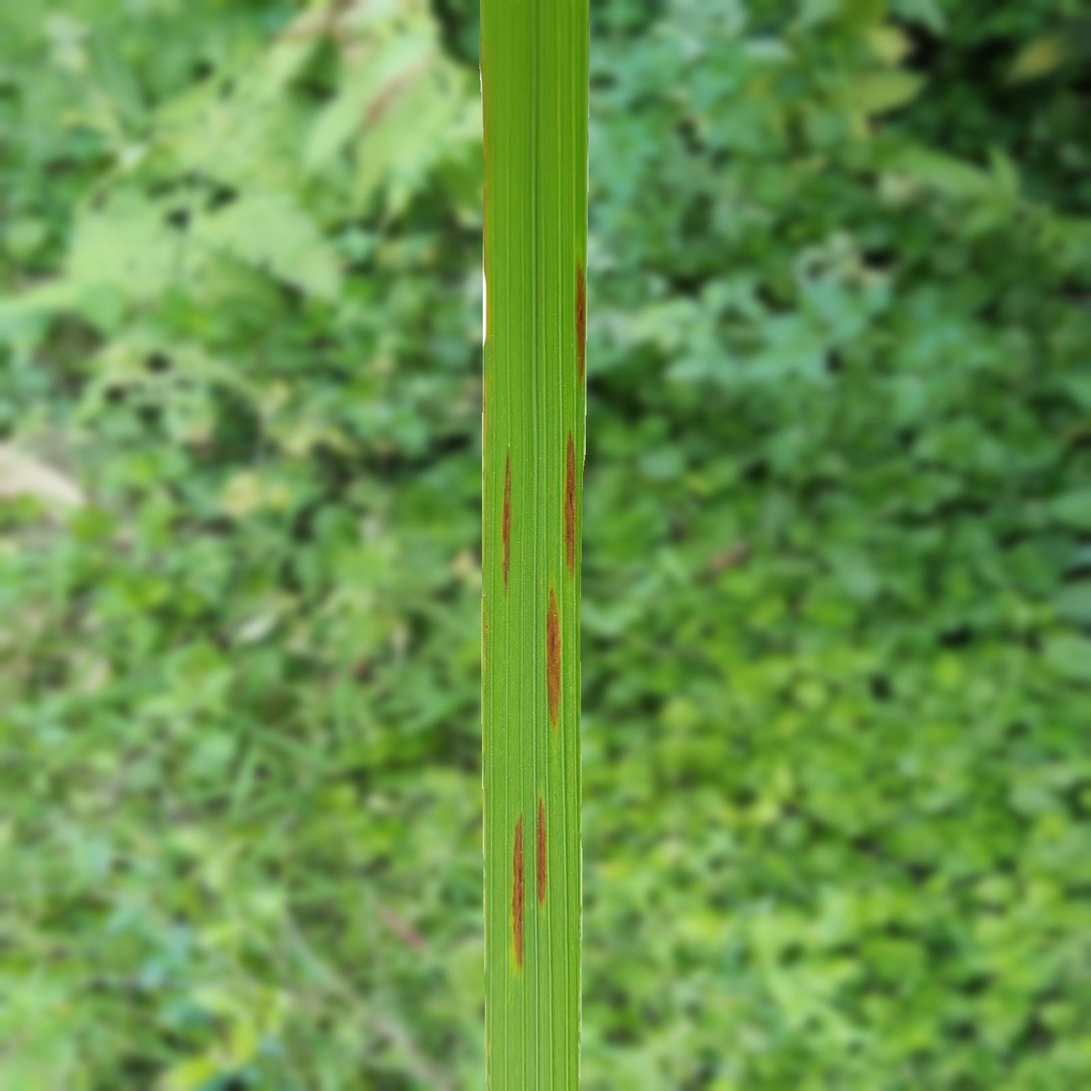LEAF: (479, 0, 590, 1090)
NBS: (547, 588, 561, 728), (513, 815, 524, 968), (566, 432, 576, 574), (576, 266, 586, 379), (537, 797, 547, 903), (502, 451, 509, 585)
